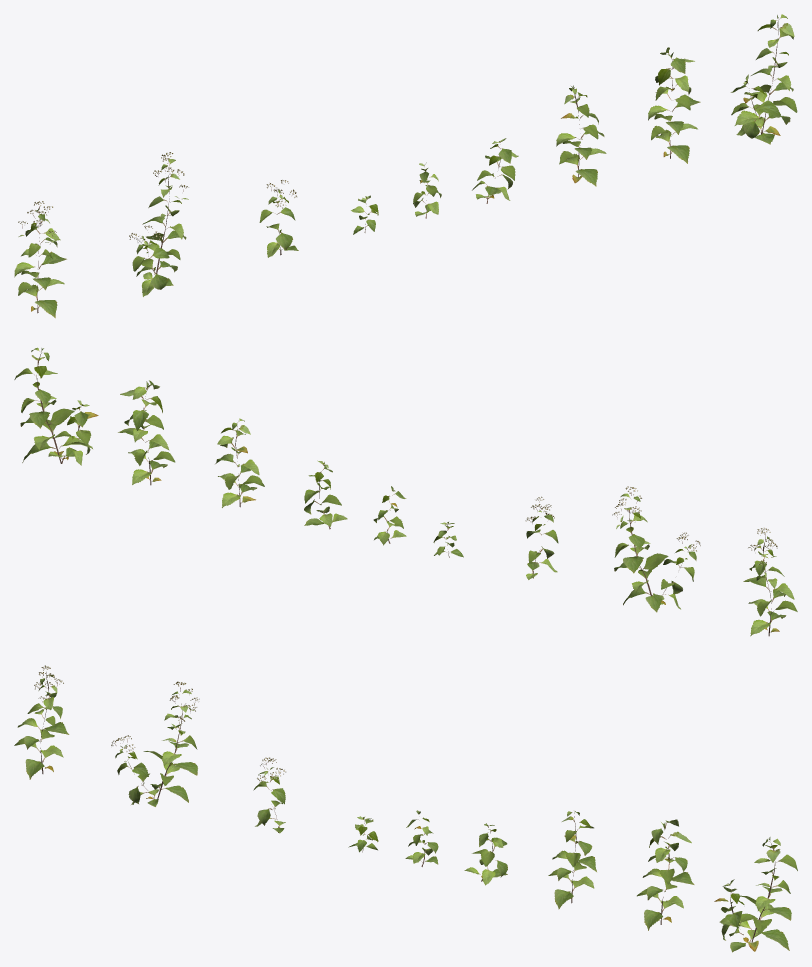
File: ph_shrub_01_lod0.glb
3 renders of one model, top to bottom at view 1: azimuth 30°, elevation 25°; view 2: azimuth 150°, elevation 25°; view 3: azimuth 330°, elevation 25°, orthographic. The views are drawn at different scales.
Visible parts, largest first — view 1: shrub_01_a; view 2: shrub_01_a; view 3: shrub_01_a.
Boxes of the visible parts, x1=… form: shrub_01_a: x1=14, y1=14, x2=797, y2=318; shrub_01_a: x1=14, y1=347, x2=797, y2=636; shrub_01_a: x1=14, y1=665, x2=797, y2=952.
Size of the model in its own units: 2.59 by 0.3955 by 0.2182.
Materials: 1 (1 with a texture image).
